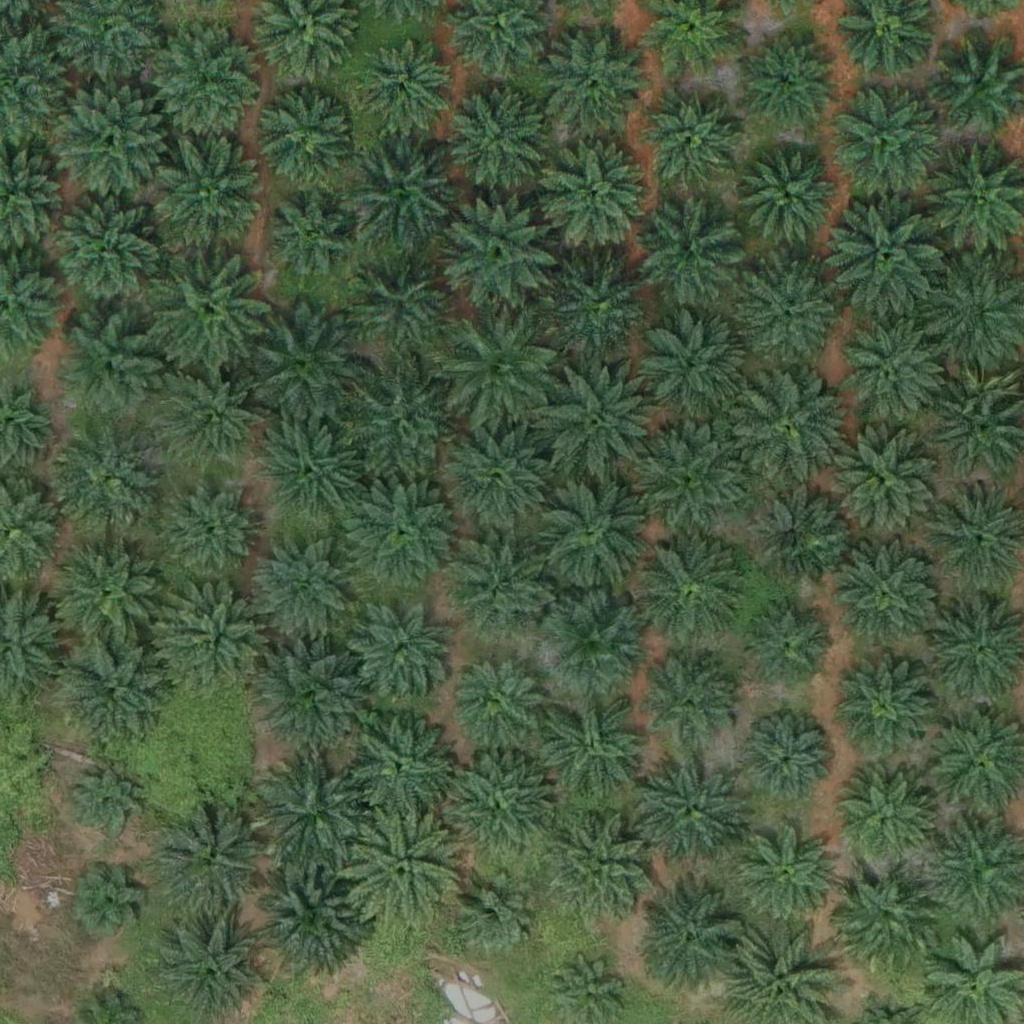Kelapa_Sawit: (46, 190, 171, 316), (147, 132, 272, 258), (146, 247, 271, 373), (242, 303, 367, 429), (338, 123, 463, 249), (337, 242, 462, 368), (337, 358, 462, 484), (438, 192, 563, 318), (436, 310, 561, 436), (533, 358, 658, 484), (821, 196, 946, 322), (529, 472, 654, 598), (436, 412, 561, 538), (339, 469, 464, 595), (343, 813, 468, 939), (252, 751, 377, 877), (534, 135, 659, 260), (724, 366, 849, 491), (631, 415, 756, 540), (631, 528, 756, 653), (257, 633, 370, 747), (50, 428, 163, 542), (50, 314, 163, 427), (150, 25, 263, 138), (536, 694, 649, 807), (256, 860, 369, 973), (160, 588, 273, 701), (153, 803, 266, 916), (50, 537, 163, 650), (54, 638, 167, 751), (53, 81, 165, 195), (158, 360, 270, 474), (442, 746, 554, 860), (344, 600, 456, 714), (345, 707, 457, 821), (830, 79, 942, 192), (833, 315, 945, 428), (636, 759, 748, 872), (254, 90, 354, 191), (351, 37, 451, 138), (448, 85, 548, 186), (543, 30, 643, 131), (551, 257, 651, 358), (640, 92, 740, 193), (641, 206, 741, 307), (645, 310, 745, 411), (737, 29, 837, 130), (739, 145, 839, 246), (736, 261, 836, 362), (833, 433, 933, 534), (837, 547, 937, 648), (831, 658, 931, 759), (834, 771, 934, 872), (837, 871, 937, 972), (745, 484, 845, 585), (736, 823, 836, 924), (642, 652, 742, 753), (545, 593, 645, 694), (454, 536, 554, 637), (261, 186, 361, 286), (645, 893, 745, 993), (557, 813, 657, 913), (260, 417, 360, 517), (251, 538, 351, 638), (158, 484, 258, 584), (742, 604, 830, 693), (739, 716, 827, 804), (453, 872, 541, 960), (455, 657, 542, 745), (70, 764, 145, 839), (71, 863, 146, 938)
